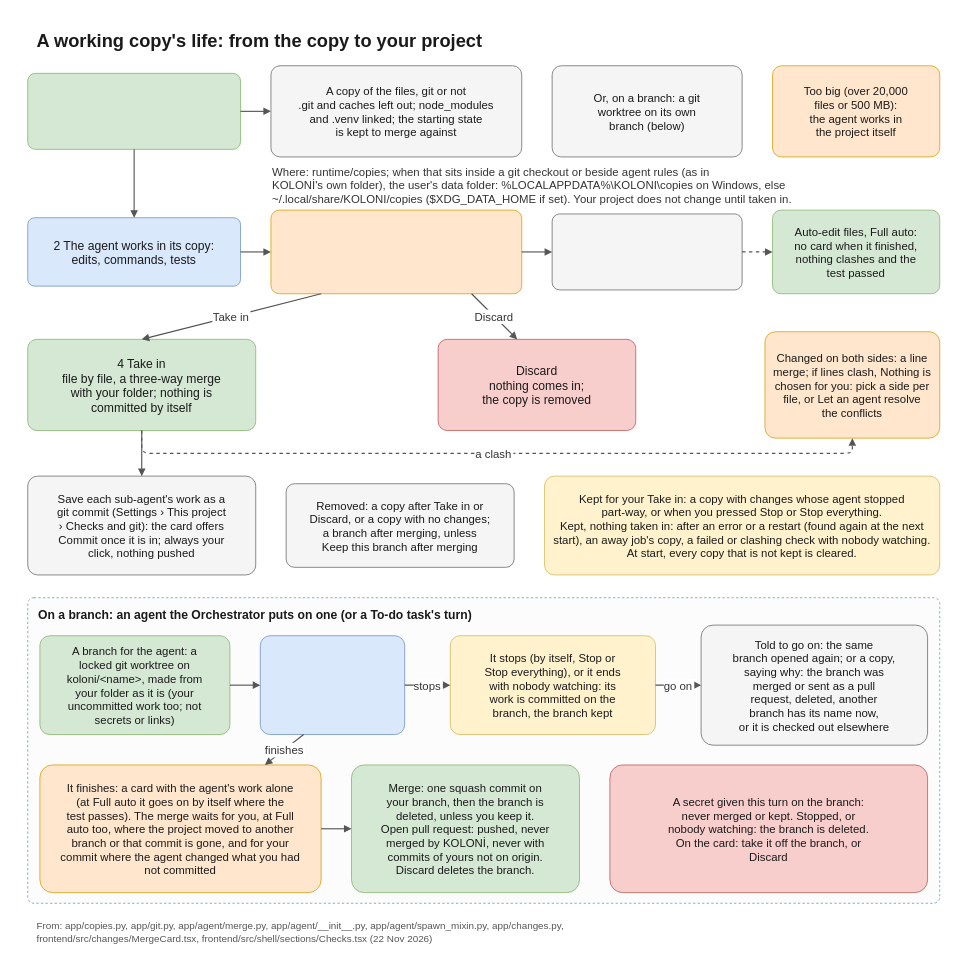
Some shapes in this 967 by 966 pixel diagram are drawn without their labels. The shapes that lost their labels are listed below. From the top down, each one's centre as x and y in pixels, then its label:
pixel 134 111: 1 An agent's first change or command: KOLONİ makes its working copy
pixel 396 251: 3 It finishes: a card in Ready for you, Take in ...'s work?
pixel 646 251: Run the test: its own tests only, each part's runner narrowed, run in the copy
pixel 332 685: The agent works in its worktree: edits, commands, tests
